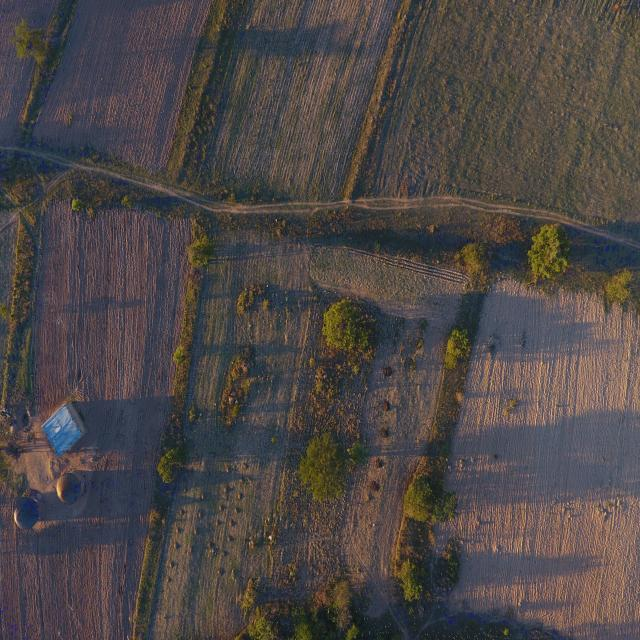boundaries: (236, 11, 634, 626), (123, 240, 219, 621), (154, 21, 256, 197)
